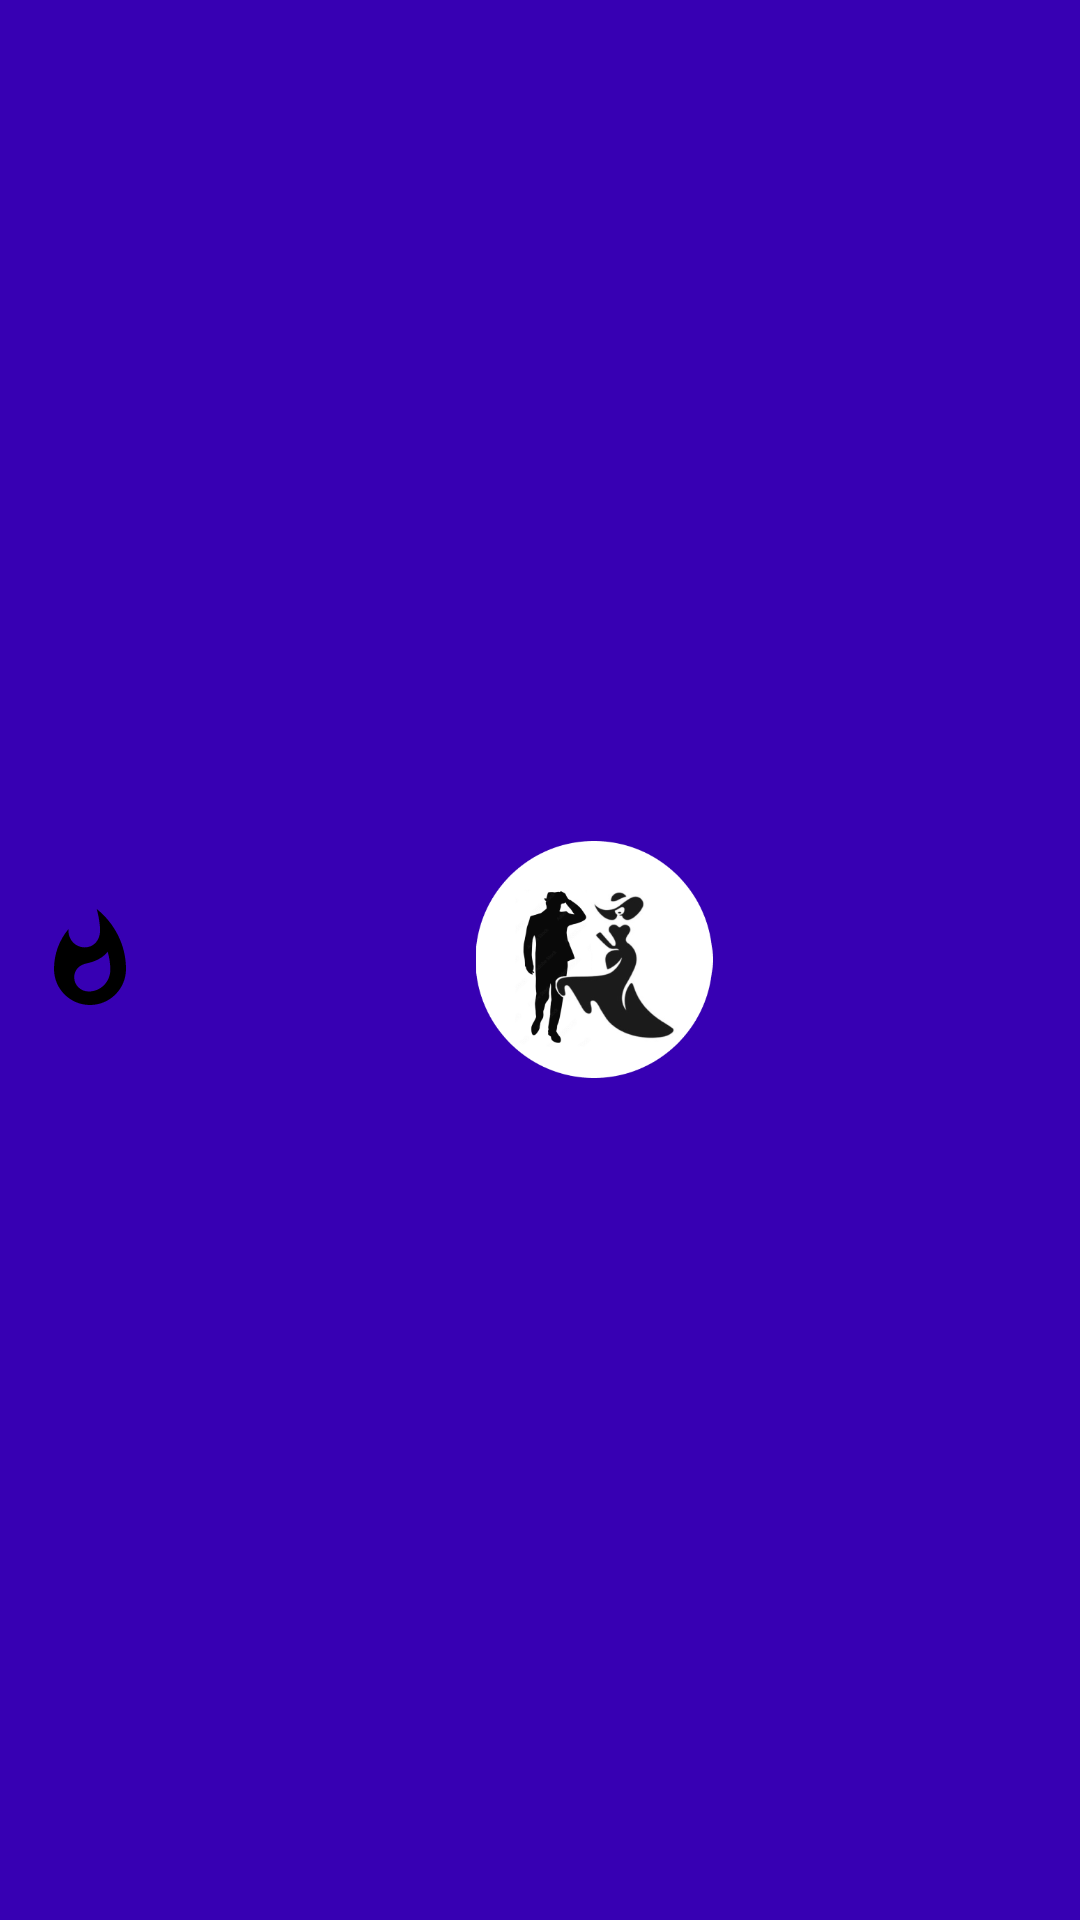

Point at icon controls on the screen. Image size 1080px x 1920px, points as point (x, y).
ipro matches: point (90, 957)
